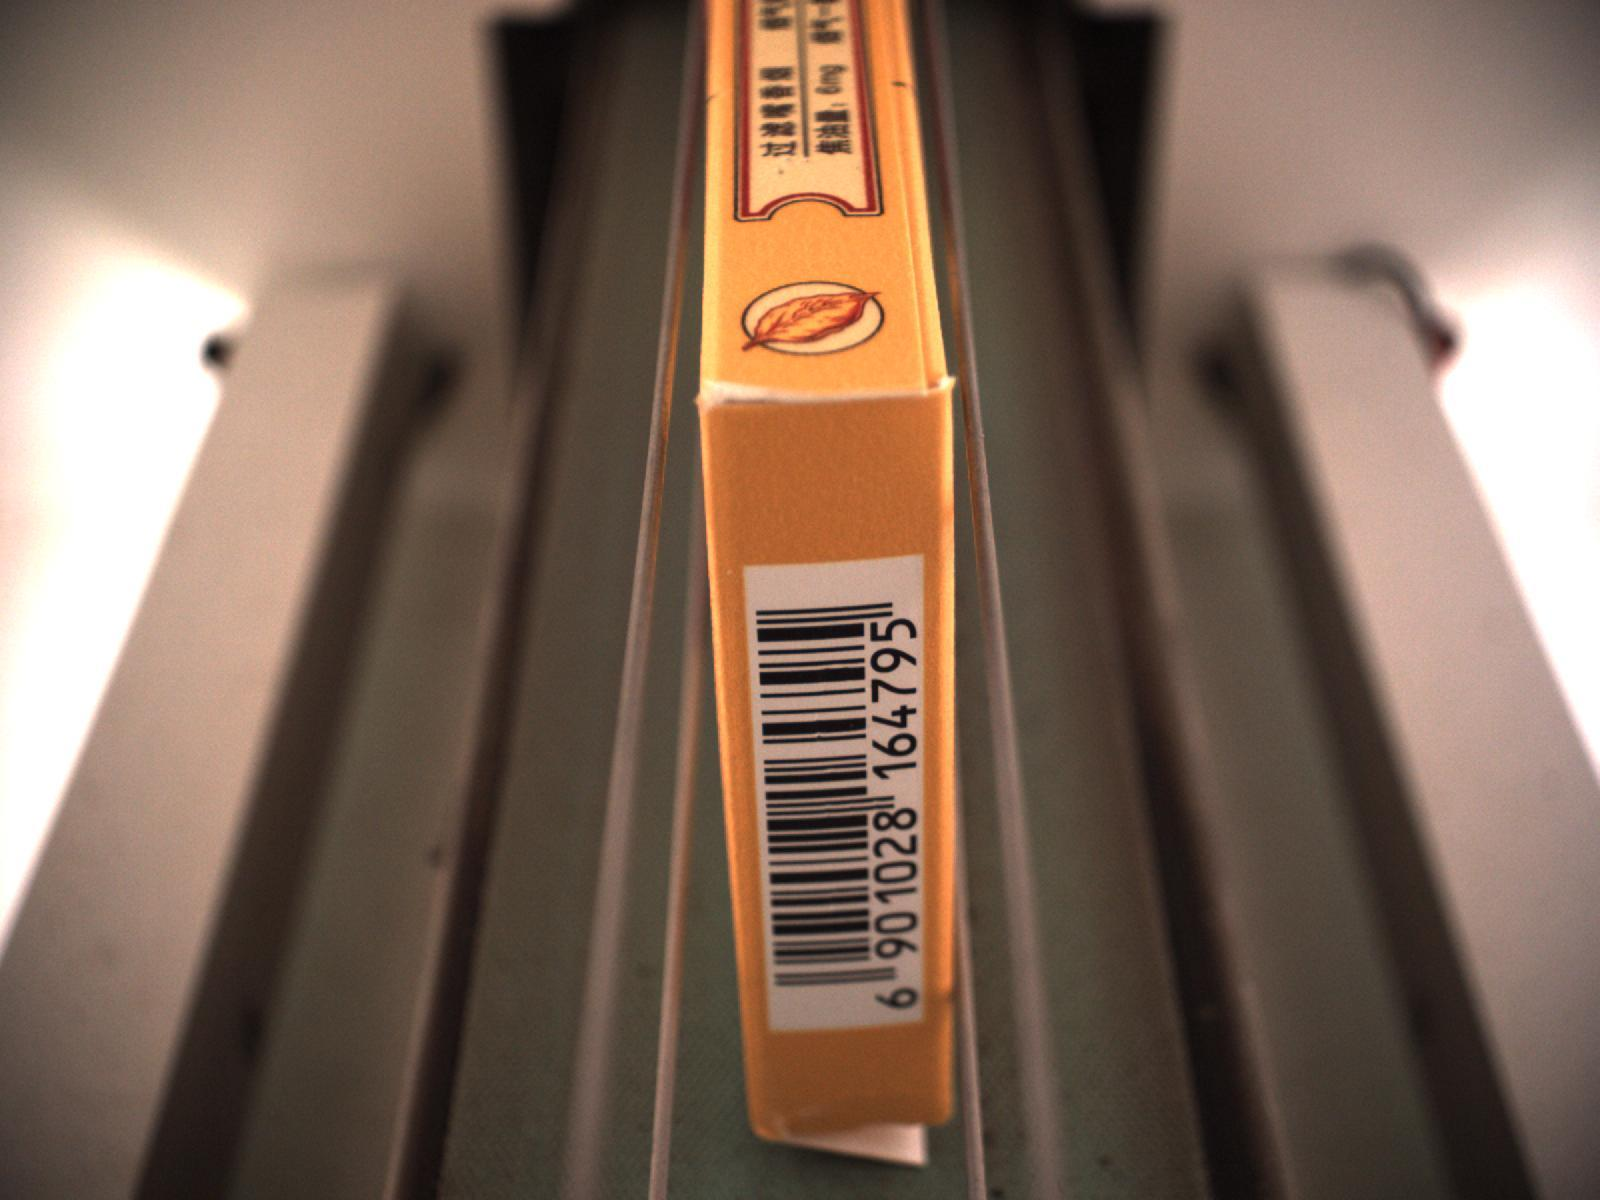dirtySpot: (776, 168, 786, 176)
skewed_bottom_3: (752, 1109, 952, 1172)
skewed_upper_3: (874, 1, 955, 406)
